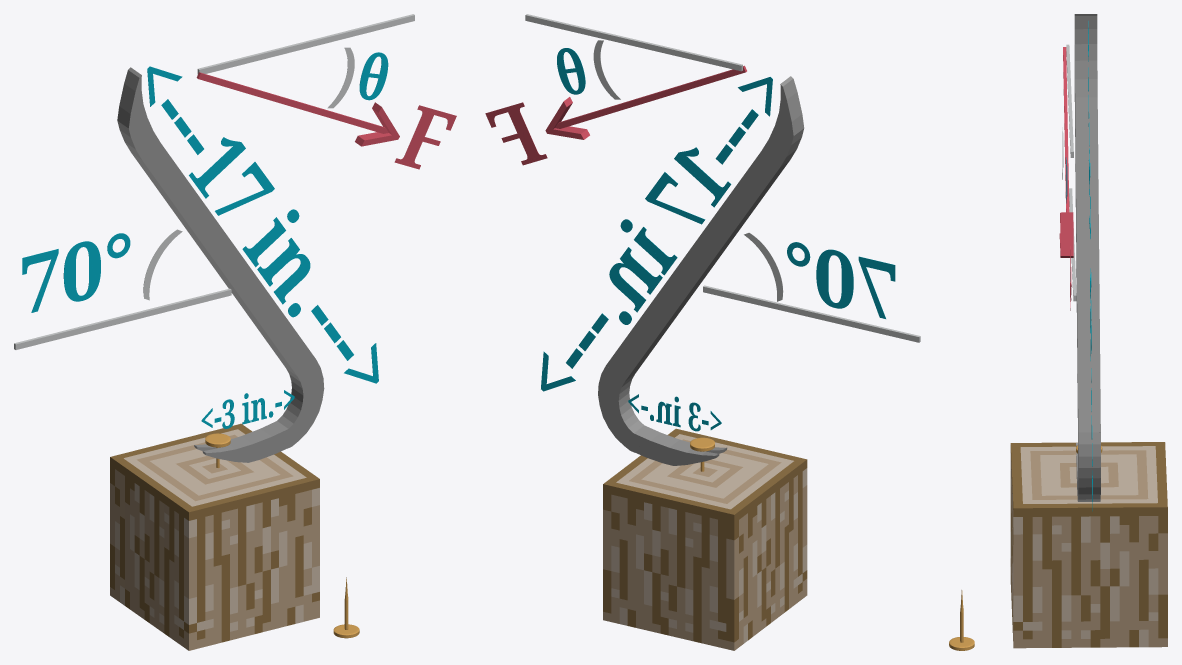
The model's file is NailCrowbar.glb.
The picture shows the model from 3 angles, left to right: view 1: azimuth 30°, elevation 25°; view 2: azimuth 150°, elevation 25°; view 3: azimuth 270°, elevation 25°; orthographic projection. The views are drawn at different scales.
Parts seen in each view (by area): view 1: Mesh_Mesh_head_geo.001_lambert2SG.001; view 2: Mesh_Mesh_head_geo.001_lambert2SG.001; view 3: Mesh_Mesh_head_geo.001_lambert2SG.001.
Part boxes in pixels (x1=…): Mesh_Mesh_head_geo.001_lambert2SG.001: x1=14, y1=14, x2=456, y2=650; Mesh_Mesh_head_geo.001_lambert2SG.001: x1=485, y1=14, x2=920, y2=650; Mesh_Mesh_head_geo.001_lambert2SG.001: x1=949, y1=14, x2=1167, y2=650.
Bounding box in the file's own units: 39.09 × 47 × 16.58.
